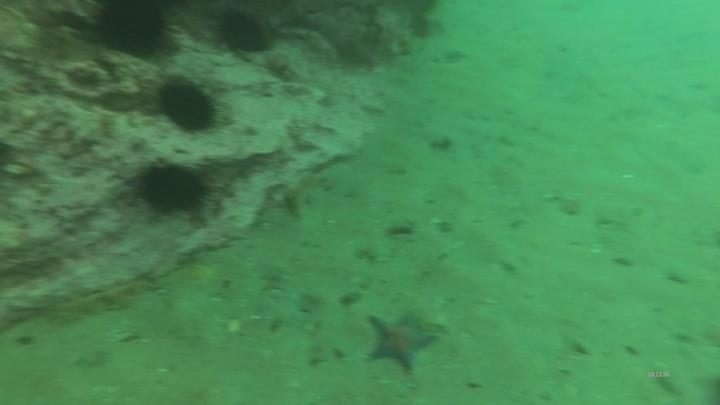echinus: (126, 154, 223, 226), (87, 3, 187, 63), (154, 76, 225, 137), (220, 9, 279, 61)
starfish: (366, 311, 439, 375)
